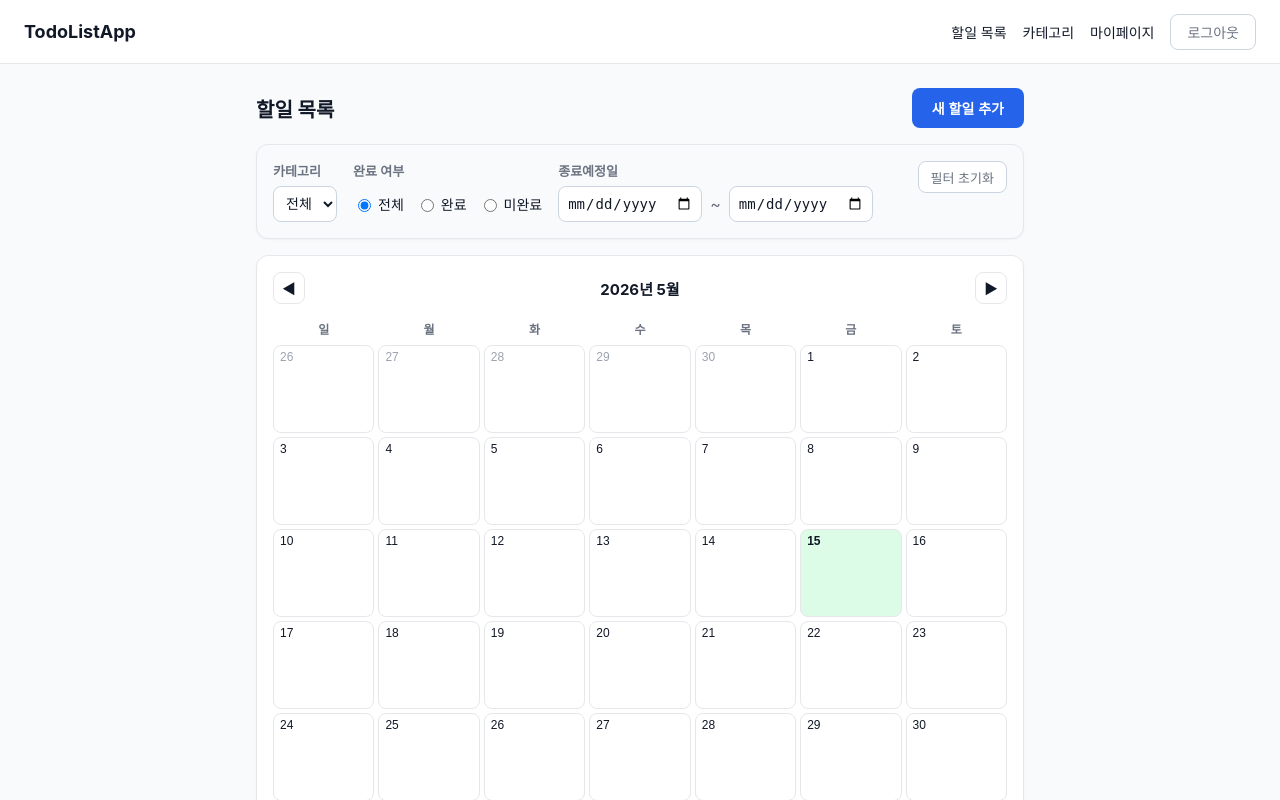
TodoListPage interactions › "새 할일 추가" 버튼 클릭 → 모달("새 할일 추가")이 화면에 나타난다
The image size is (1280, 800).
Click the button "새 할일 추가" at (968, 108), box x1=912 y1=88 x2=1024 y2=128
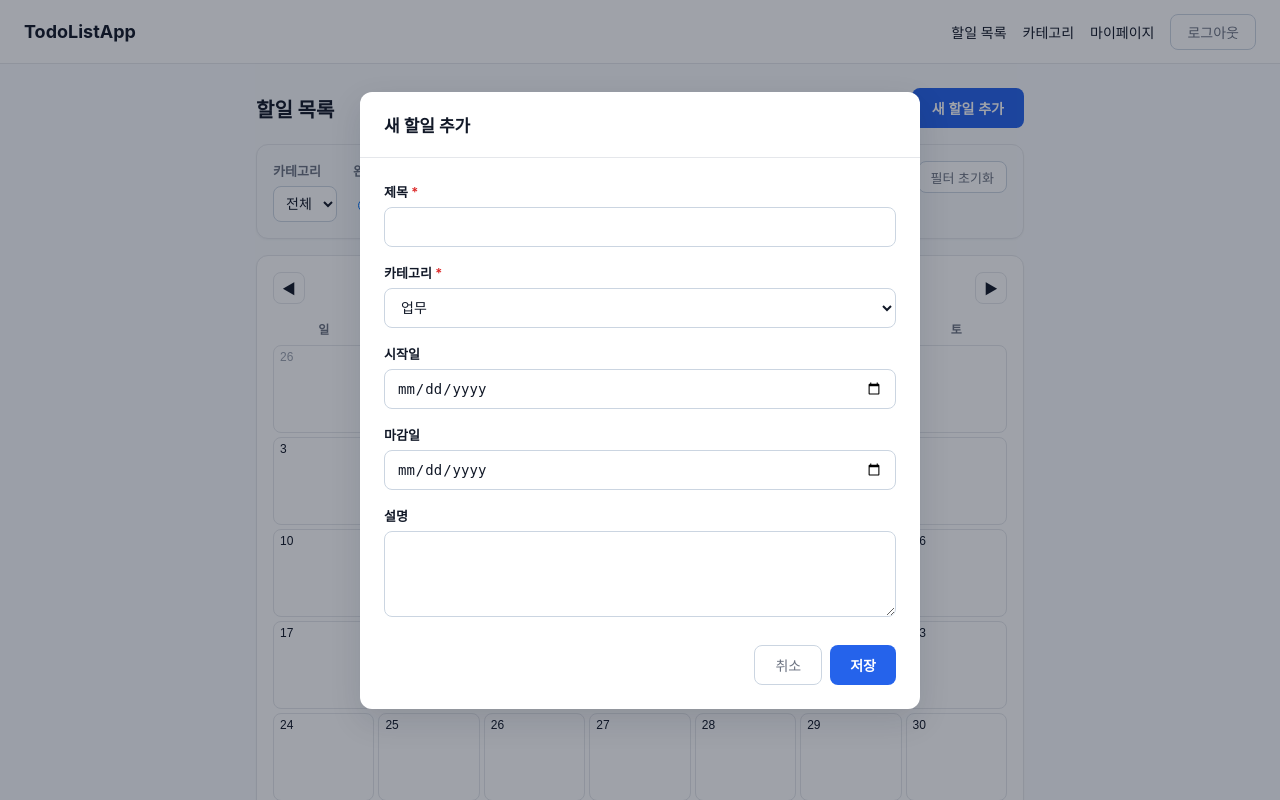
Now the dialog is shown, box x1=360 y1=92 x2=920 y2=708
Now the heading "새 할일 추가" is shown, box x1=384 y1=116 x2=470 y2=136
